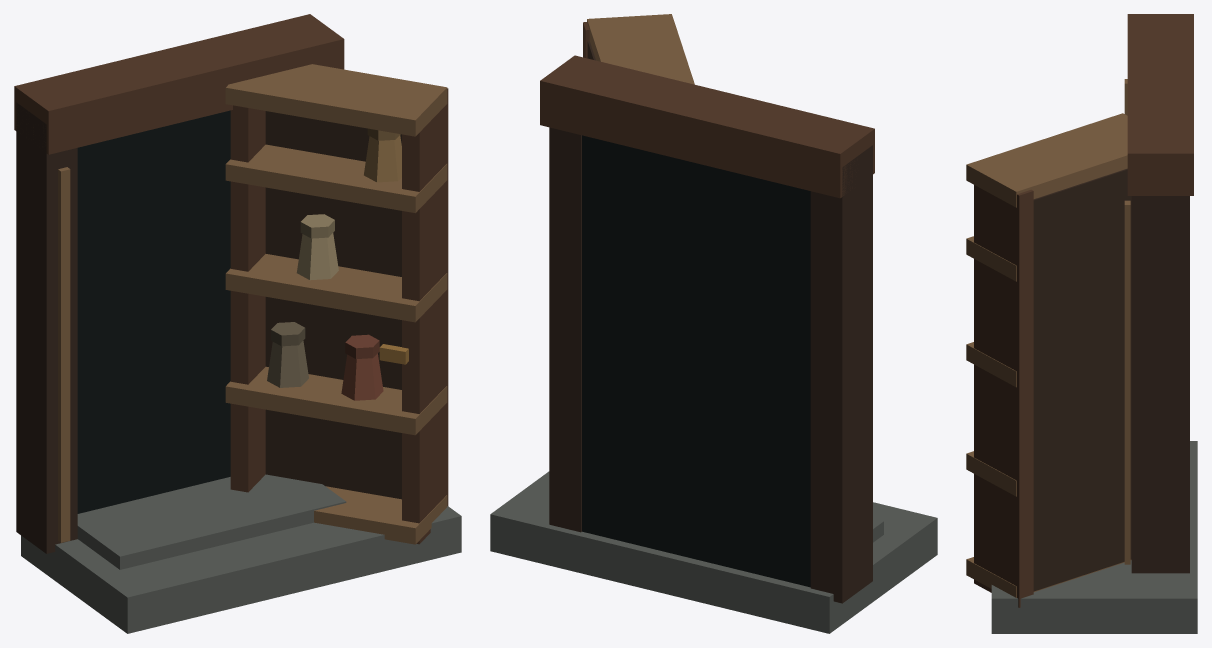
File: pantry-passage.glb
3 renders of one model, left to right at view 1: azimuth 30°, elevation 25°; view 2: azimuth 150°, elevation 25°; view 3: azimuth 270°, elevation 25°, orthographic. The views are drawn at different scales.
Visible parts, largest first — view 1: The second pantry; view 2: The second pantry; view 3: The second pantry.
Part boxes in pixels (x1,y1,x2,y2): The second pantry: (14,14,461,633); The second pantry: (490,14,937,633); The second pantry: (966,14,1197,633).
Bounding box in the file's own units: 0.9876 × 1.3 × 0.5952.
